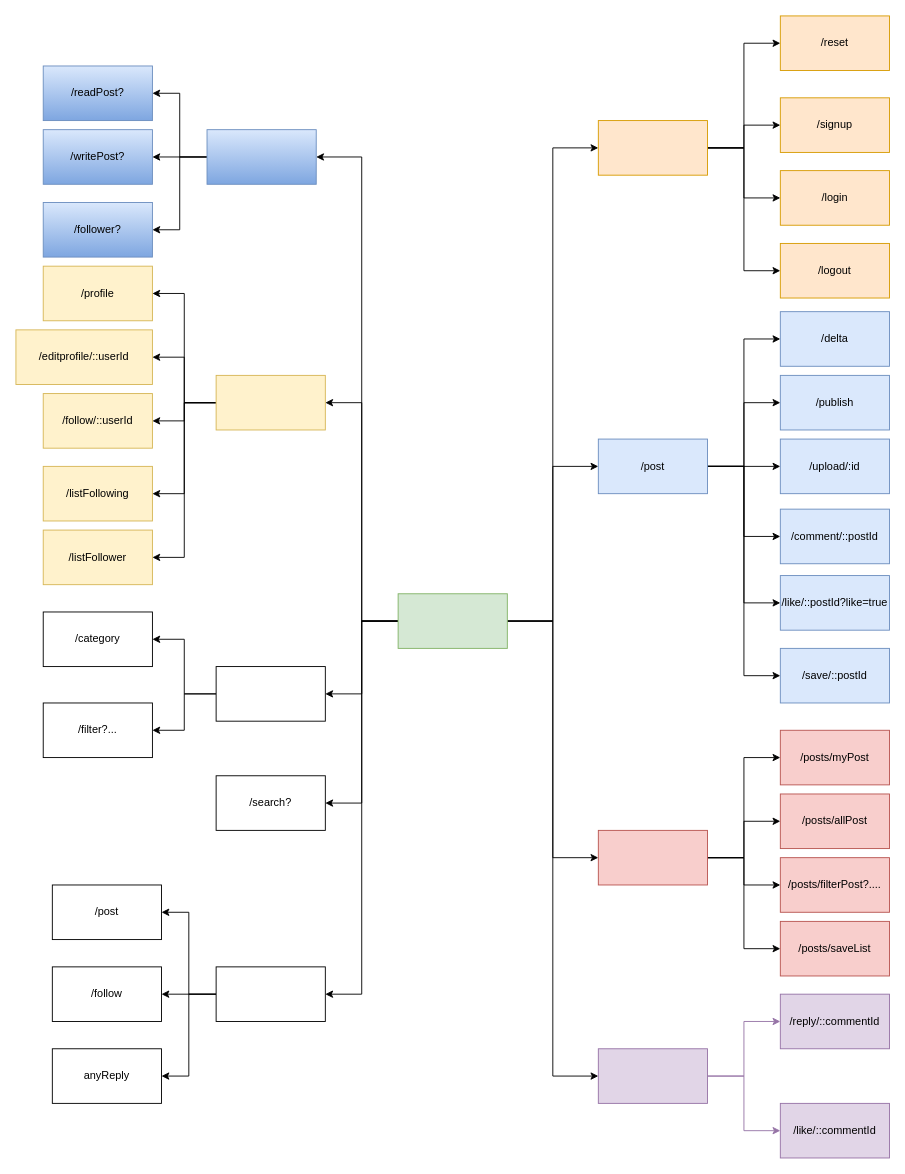
Some shapes in this 905 by 1174 pixel diagram are drawn without their labels. Here are the shapes that lost their labels. From the top down, the centre of each, then its label:
point (261, 156): /stat
point (652, 147): /auth
point (270, 402): /user
point (452, 620): /v1/api
point (270, 693): /recommend?
point (652, 857): /posts
point (270, 993): /notification?
point (652, 1075): /comment
